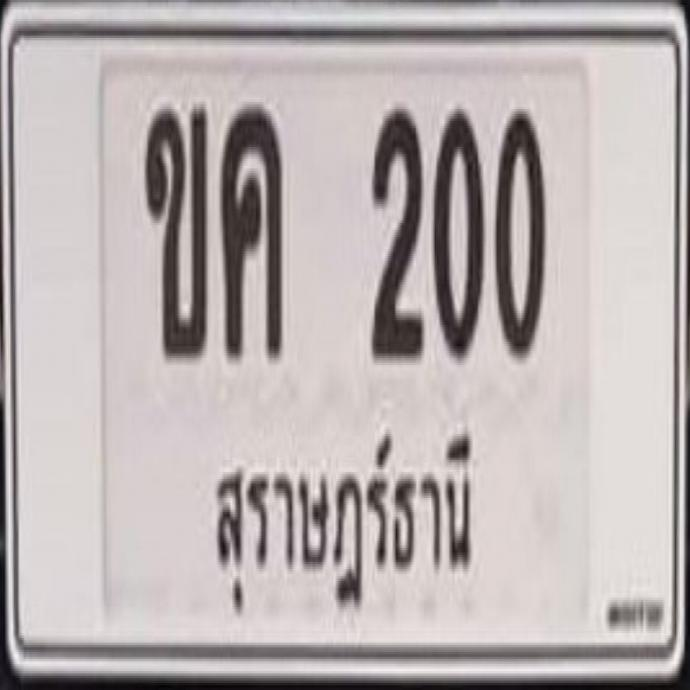0: (493, 105, 543, 356), (432, 105, 481, 358)
2: (368, 104, 422, 359)
A02: (143, 101, 205, 355)
A04: (220, 103, 281, 357)
SNI: (199, 418, 486, 627)
